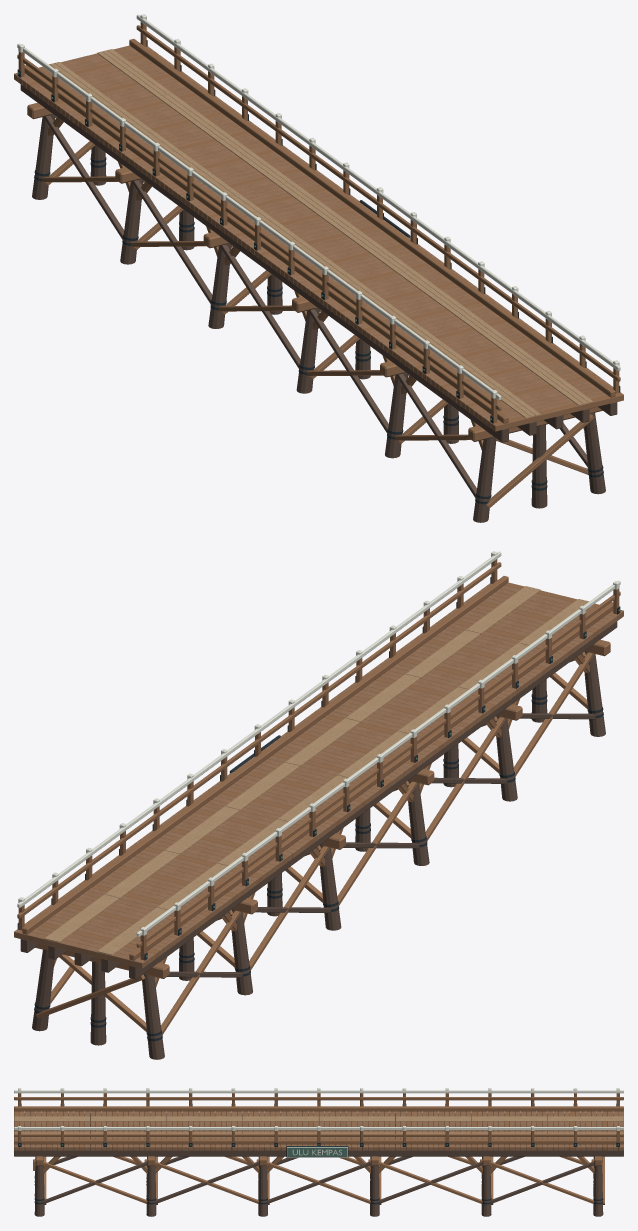
3 renders of one model, top to bottom at view 1: azimuth 30°, elevation 25°; view 2: azimuth 150°, elevation 25°; view 3: azimuth 270°, elevation 25°, orthographic. The views are drawn at different scales.
Visible parts, largest first — view 1: Transverse deck planks, Long grain running boards, Fence ribbons, Battered hardwood piles, Edge rub timbers, Sway bracing, Longitudinal stringers, Rail posts, Transverse trestle crosses, Bent cap timbers, Tide bands, White dipped heads (+1 smaller); view 2: Transverse deck planks, Long grain running boards, Fence ribbons, Battered hardwood piles, Edge rub timbers, Sway bracing, Longitudinal stringers, Rail posts, Transverse trestle crosses, Bent cap timbers, White dipped heads, Tide bands (+1 smaller); view 3: Transverse deck planks, Fence ribbons, Edge rub timbers, Sway bracing, Long grain running boards, Longitudinal stringers, Battered hardwood piles, Rail posts, Knee shores, Fascia plaque, Transverse trestle crosses, Bent cap timbers (+3 smaller).
Boxes of the visible parts, left/top/right/bottom form: Transverse deck planks: left=14, top=45, right=623, bottom=431; Long grain running boards: left=49, top=49, right=593, bottom=418; Fence ribbons: left=17, top=14, right=620, bottom=410; Battered hardwood piles: left=32, top=114, right=605, bottom=522; Edge rub timbers: left=24, top=39, right=615, bottom=423; Sway bracing: left=42, top=115, right=587, bottom=497; Longitudinal stringers: left=20, top=84, right=617, bottom=442; Rail posts: left=18, top=22, right=619, bottom=423; Transverse trestle crosses: left=45, top=116, right=594, bottom=508; Bent cap timbers: left=27, top=102, right=602, bottom=441; Tide bands: left=34, top=157, right=603, bottom=504; White dipped heads: left=18, top=14, right=619, bottom=398; Transverse deck planks: left=14, top=582, right=623, bottom=968; Long grain running boards: left=44, top=586, right=588, bottom=955; Fence ribbons: left=17, top=551, right=620, bottom=947; Battered hardwood piles: left=32, top=651, right=605, bottom=1059; Edge rub timbers: left=22, top=576, right=613, bottom=960; Sway bracing: left=50, top=652, right=595, bottom=1034; Longitudinal stringers: left=20, top=621, right=617, bottom=979; Rail posts: left=18, top=559, right=619, bottom=960; Transverse trestle crosses: left=36, top=651, right=587, bottom=1031; Bent cap timbers: left=35, top=639, right=610, bottom=978; White dipped heads: left=18, top=551, right=619, bottom=935; Tide bands: left=34, top=694, right=603, bottom=1041; Transverse deck planks: left=14, top=1111, right=623, bottom=1150; Fence ribbons: left=14, top=1090, right=623, bottom=1136; Edge rub timbers: left=14, top=1106, right=623, bottom=1144; Sway bracing: left=43, top=1156, right=594, bottom=1203; Long grain running boards: left=14, top=1116, right=623, bottom=1137; Longitudinal stringers: left=14, top=1113, right=623, bottom=1156; Battered hardwood piles: left=34, top=1156, right=603, bottom=1216; Rail posts: left=18, top=1093, right=619, bottom=1150; Knee shores: left=43, top=1120, right=594, bottom=1173; Fascia plaque: left=286, top=1146, right=348, bottom=1157; Transverse trestle crosses: left=33, top=1156, right=604, bottom=1204; Bent cap timbers: left=35, top=1156, right=602, bottom=1165.
Bounding box in the file's own units: 5.28 × 5.16 × 32.
7 materials, 2 textured.
